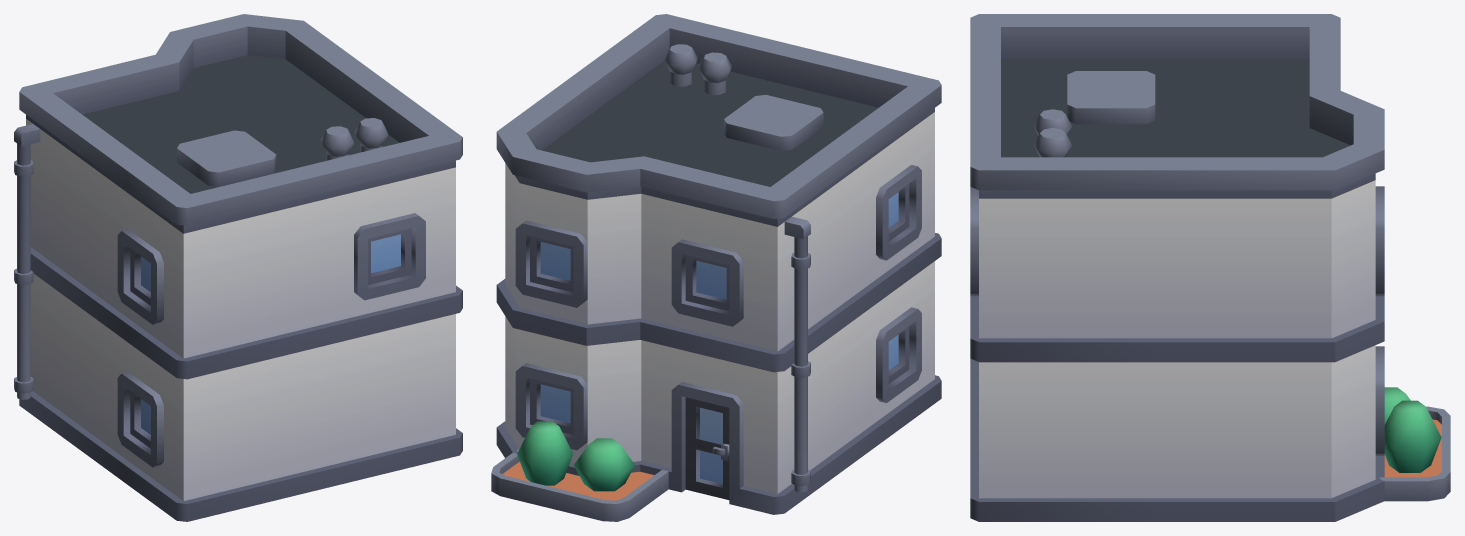
The model's file is building-c.glb.
The picture shows the model from 3 angles, left to right: view 1: azimuth 30°, elevation 25°; view 2: azimuth 150°, elevation 25°; view 3: azimuth 270°, elevation 25°; orthographic projection. The views are drawn at different scales.
Visible parts, largest first — view 1: building-c; view 2: building-c; view 3: building-c.
Boxes of the visible parts, box(x1,y1,x2,y2) form: building-c: box(14, 14, 462, 521); building-c: box(491, 14, 941, 521); building-c: box(970, 14, 1450, 521).
Bounding box in the file's own units: 0.8836 × 0.8931 × 1.09.
Materials: 1 (1 with a texture image).
